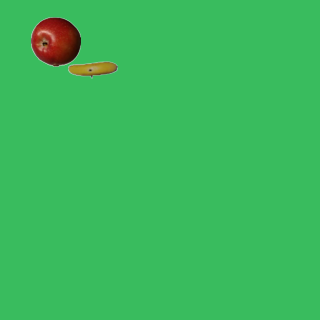Apple Braeburn: (30, 16, 80, 66)
Banana: (67, 44, 117, 94)
